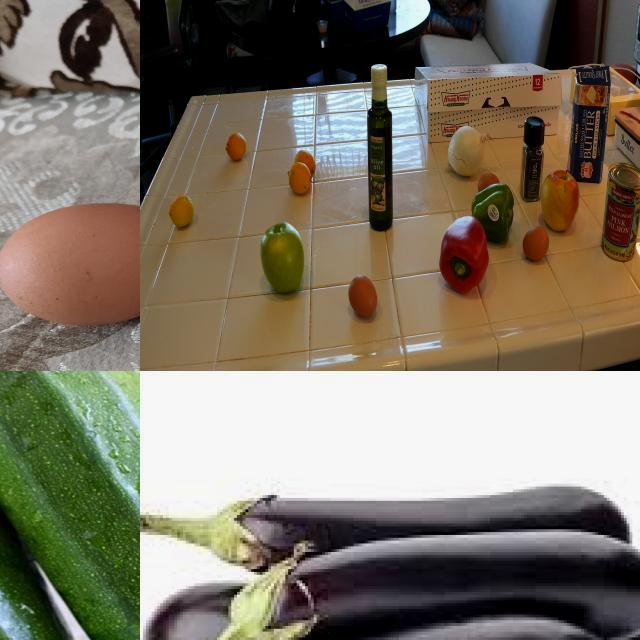bell_pepper: (441, 219, 495, 293), (516, 112, 546, 206), (477, 186, 519, 247)
egg: (1, 201, 141, 330), (349, 276, 387, 326), (521, 227, 551, 267), (473, 175, 499, 200)
eggplant: (209, 530, 640, 640), (187, 485, 631, 573), (186, 612, 627, 640)
onion: (445, 125, 486, 177)
